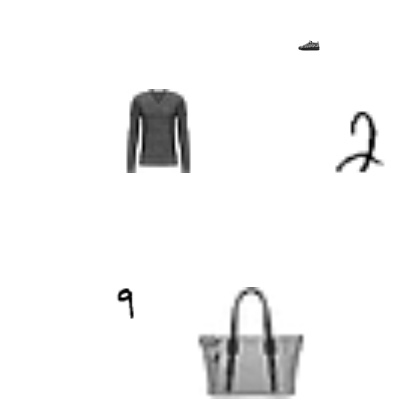6: (323, 37, 351, 65)
Ankle_boot: (151, 254, 207, 310)
Coat: (182, 352, 210, 380)
Dress: (264, 278, 292, 306), (17, 121, 39, 143)
Pullover: (167, 56, 223, 112)
Shirt: (313, 84, 341, 112)
Sneaker: (356, 48, 378, 70)
